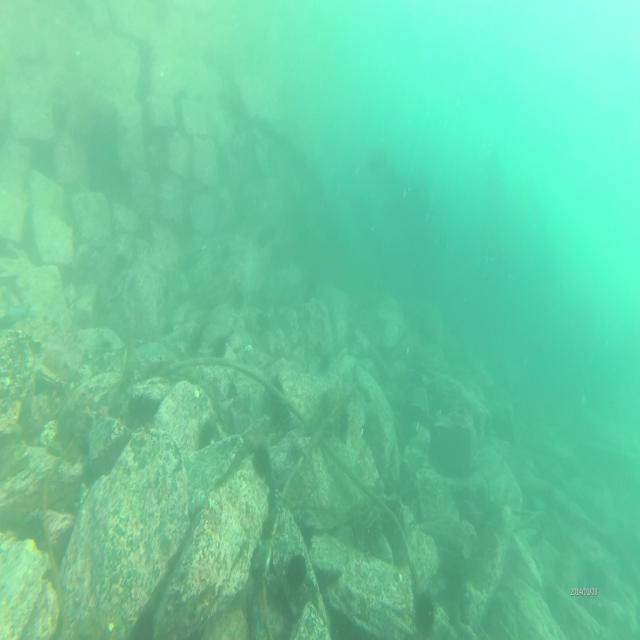echinus: (411, 584, 437, 638), (284, 548, 308, 592), (251, 440, 270, 478), (199, 416, 217, 453), (230, 287, 243, 313), (213, 334, 226, 359)
starfish: (94, 402, 109, 422)
